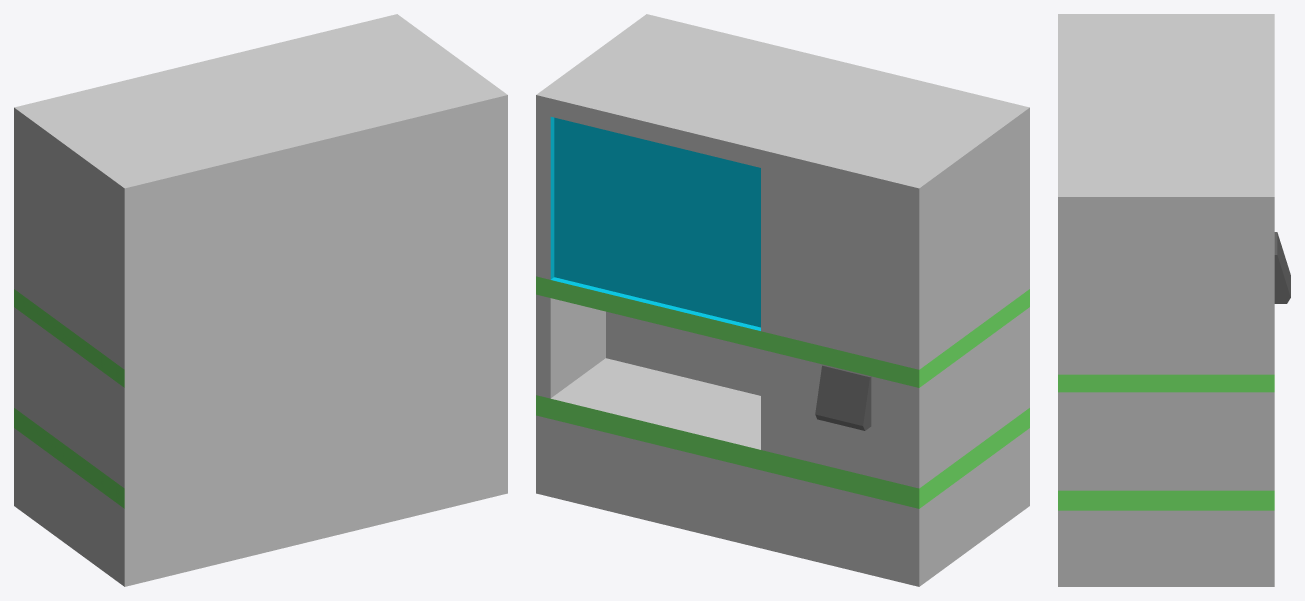
The model's file is VendingStore.fbx.
3 renders of one model, left to right at view 1: azimuth 30°, elevation 25°; view 2: azimuth 150°, elevation 25°; view 3: azimuth 270°, elevation 25°, orthographic. The views are drawn at different scales.
Visible parts, largest first — view 1: vending_machine; view 2: vending_machine, VendingMachineInteract; view 3: vending_machine, VendingMachineInteract.
Part boxes in pixels (x1,y1,x2,y2): vending_machine: (14, 14, 507, 586); vending_machine: (536, 14, 1029, 586); VendingMachineInteract: (815, 364, 871, 430); vending_machine: (1058, 14, 1274, 586); VendingMachineInteract: (1274, 232, 1290, 303).
Size of the model in its own units: 200 by 107 by 199.
